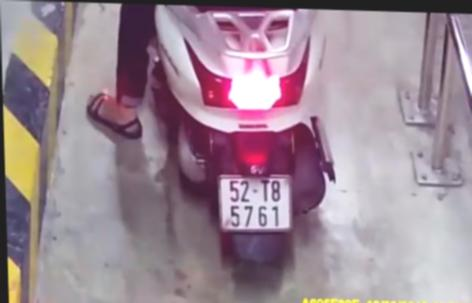License_Plate: (213, 167, 297, 238)
